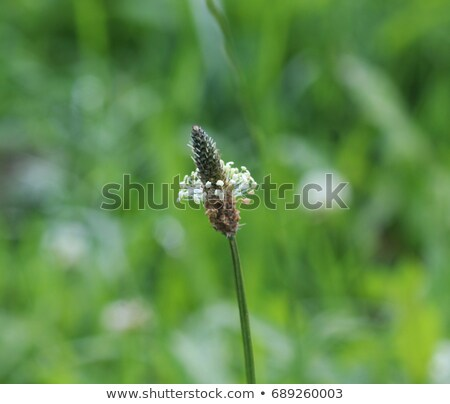buckhorn plantain: (178, 118, 279, 327)
